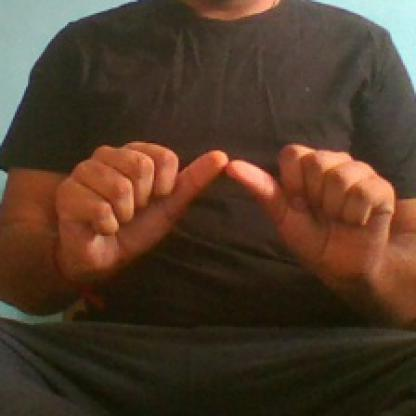A: (44, 128, 398, 286)
